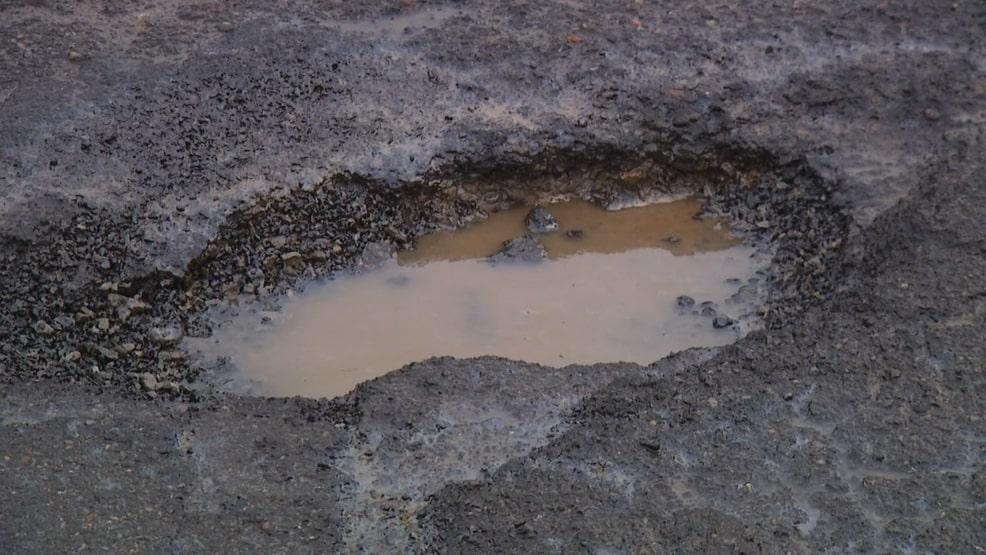Pothole: (74, 130, 890, 413)
